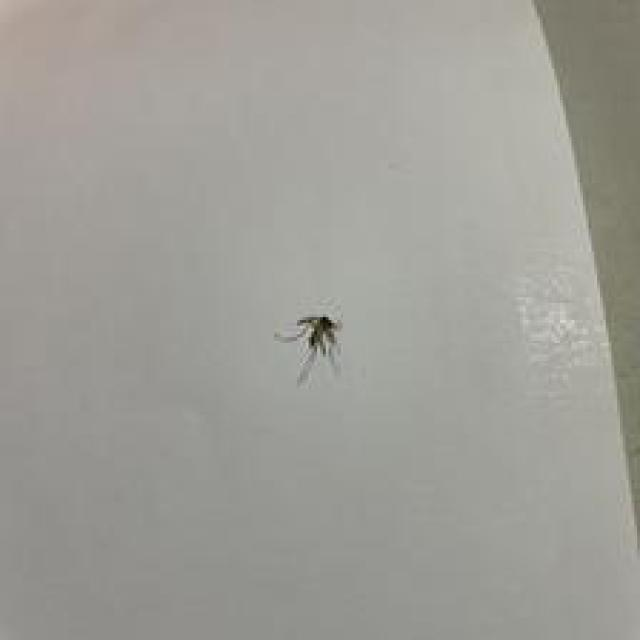Culex: (274, 313, 343, 387)
